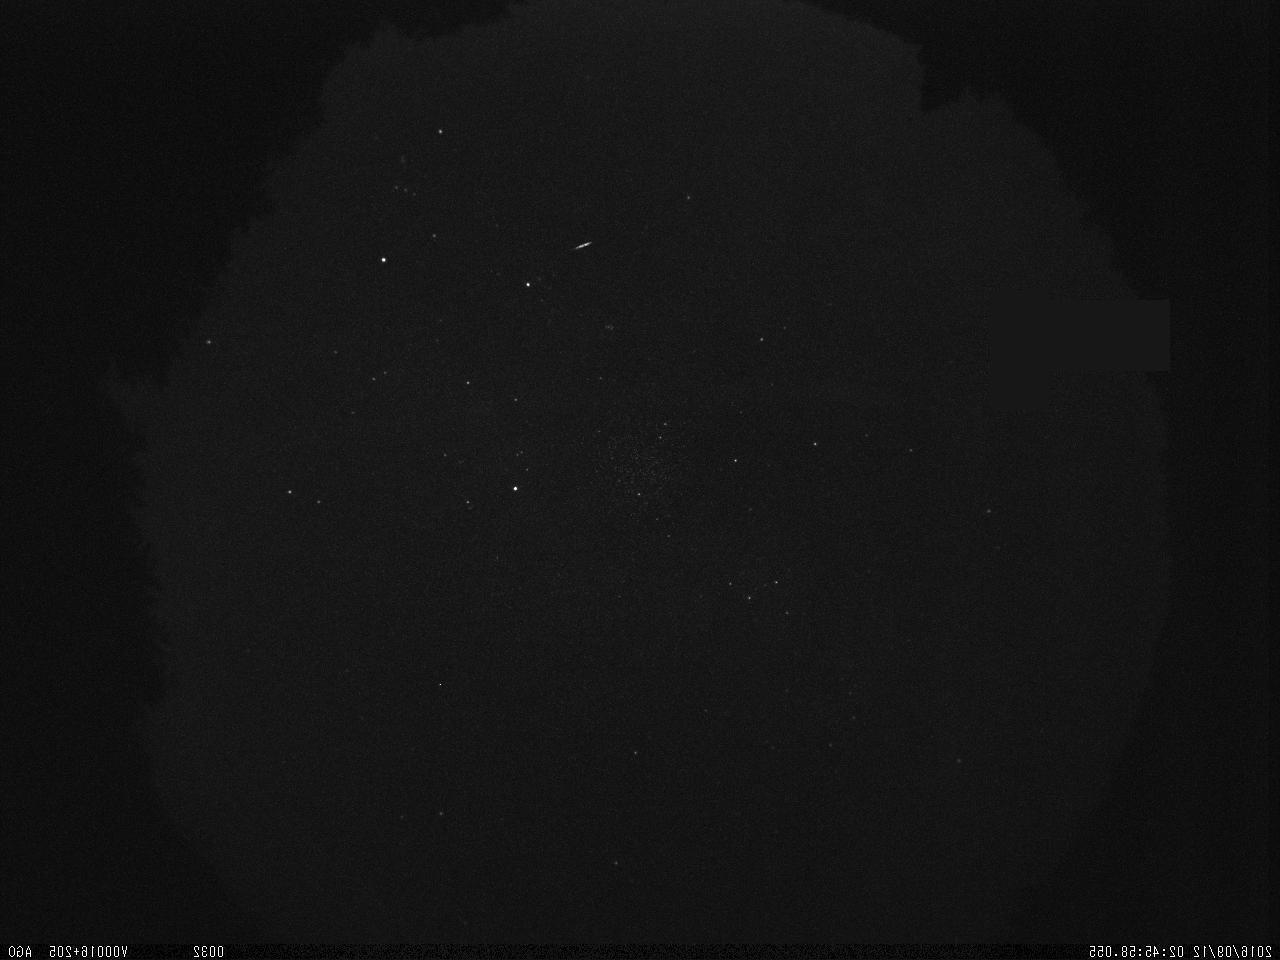meteor: (557, 230, 603, 263)
